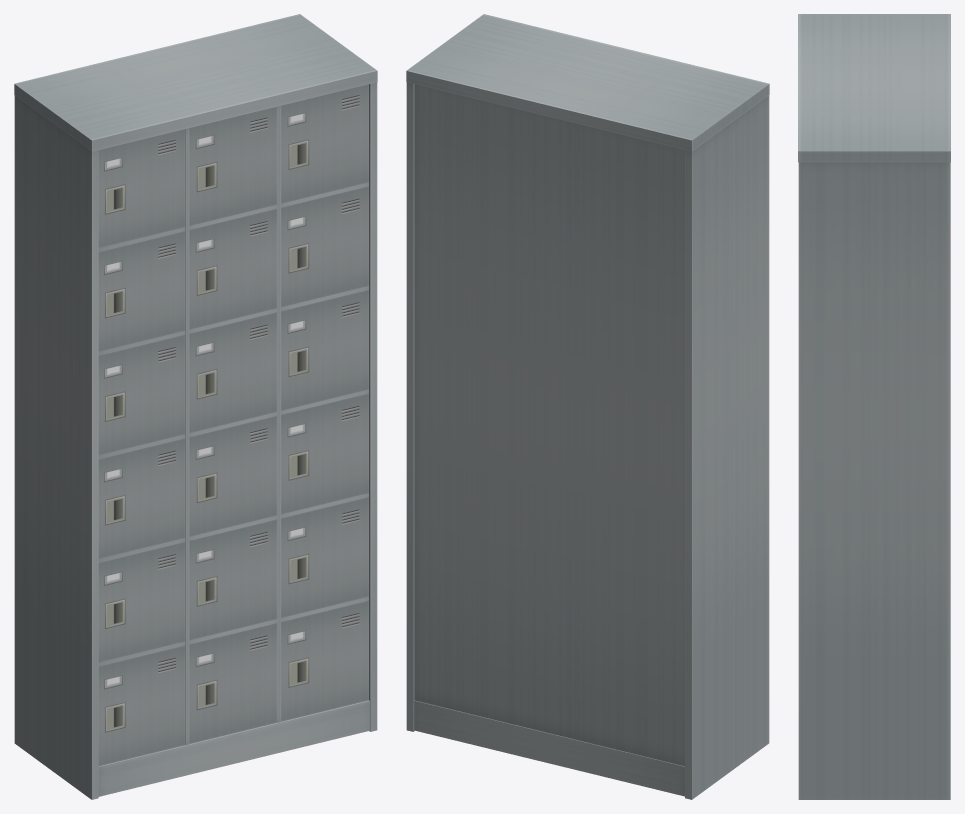
File: set_shoecupboard_a_09.fbx
3 renders of one model, left to right at view 1: azimuth 30°, elevation 25°; view 2: azimuth 150°, elevation 25°; view 3: azimuth 270°, elevation 25°, orthographic.
Parts seen in each view (by area): view 1: shoecupboard_a_09, door_a_09_11, door_a_09_09, door_a_09_08, door_a_09_10, door_a_09_12, door_a_09_16, door_a_09_14, door_a_09_18, door_a_09_02, door_a_09_04, door_a_09_05 (+7 smaller); view 2: shoecupboard_a_09; view 3: shoecupboard_a_09.
Part boxes in pixels (x1,y1,x2,y2): shoecupboard_a_09: [14, 14, 377, 799]; door_a_09_11: [189, 519, 277, 640]; door_a_09_09: [189, 312, 277, 433]; door_a_09_08: [189, 208, 277, 329]; door_a_09_10: [189, 416, 277, 536]; door_a_09_12: [189, 623, 277, 743]; door_a_09_16: [281, 393, 368, 514]; door_a_09_14: [281, 186, 368, 307]; door_a_09_18: [281, 600, 368, 721]; door_a_09_02: [98, 231, 185, 351]; door_a_09_04: [98, 438, 185, 558]; door_a_09_05: [98, 542, 185, 662]; shoecupboard_a_09: [406, 14, 769, 799]; shoecupboard_a_09: [798, 14, 950, 799].
Size of the model in its own units: 79.39 by 175 by 37.38.
